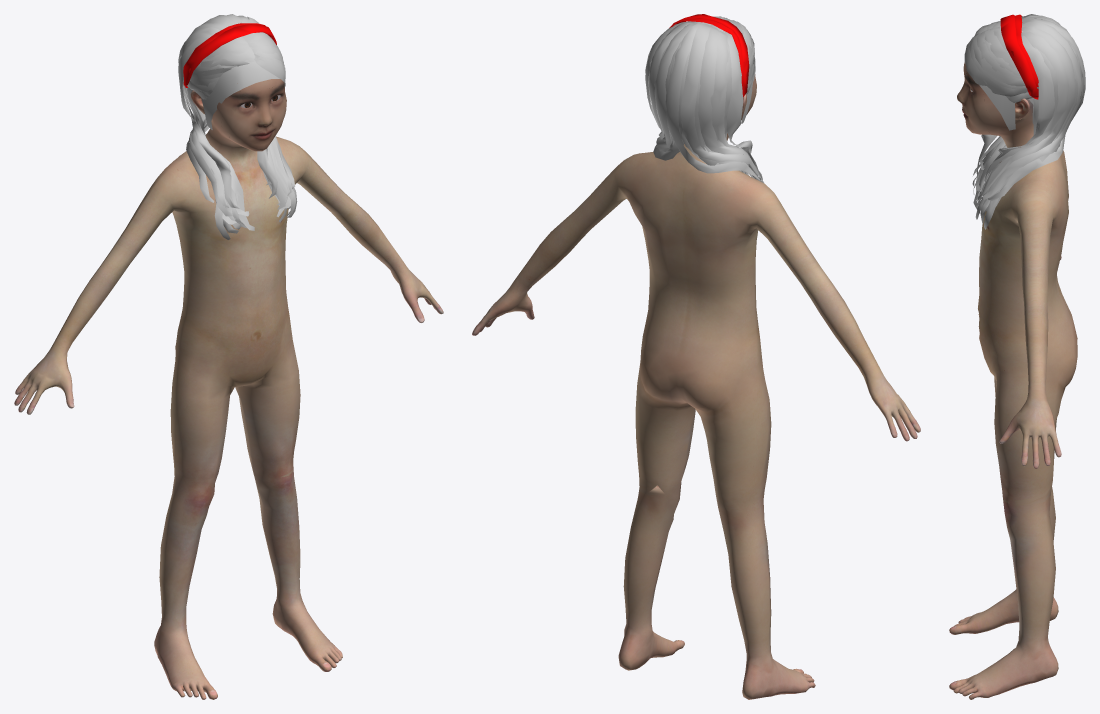
The model's file is nvhai.obj.
3 views of the same model, side by side, from view 1: azimuth 30°, elevation 25°; view 2: azimuth 150°, elevation 25°; view 3: azimuth 270°, elevation 25° (orthographic). The views are drawn at different scales.
Parts seen in each view (by area): view 1: ET_nv001; view 2: ET_nv001; view 3: ET_nv001.
Boxes of the visible parts, x1,y1,x2,y2 form: ET_nv001: (14, 14, 443, 699); ET_nv001: (472, 14, 920, 699); ET_nv001: (949, 14, 1085, 699).
Size of the model in its own units: 61.1 by 88.7 by 17.08.
